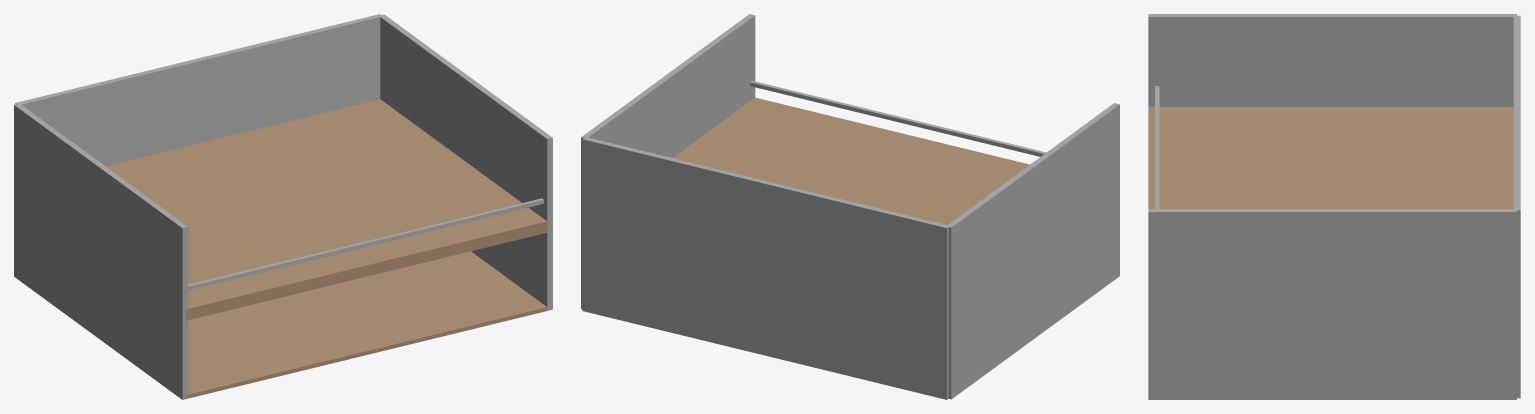
Rendered from warehouse_mezzanine.glb.
3 renders of one model, left to right at view 1: azimuth 30°, elevation 25°; view 2: azimuth 150°, elevation 25°; view 3: azimuth 270°, elevation 25°, orthographic. The views are drawn at different scales.
Visible parts, largest first — view 1: deck, left, back, floor, right, rail; view 2: back, left, deck, right, rail; view 3: right, deck, left, back, rail.
Part boxes in pixels (box(x1,y1,x2,y2)): deck: box(106, 99, 549, 320); left: box(14, 104, 188, 399); back: box(15, 14, 382, 166); floor: box(185, 251, 549, 398); right: box(380, 14, 552, 310); rail: box(188, 198, 543, 290); back: box(582, 137, 949, 399); left: box(946, 103, 1119, 399); deck: box(673, 97, 1029, 224); right: box(581, 14, 755, 309); rail: box(750, 80, 1046, 156); right: box(1148, 209, 1516, 399); deck: box(1148, 107, 1513, 208); left: box(1148, 14, 1516, 106); back: box(1513, 15, 1520, 398); rail: box(1155, 86, 1159, 208).
Bounding box in the file's own units: 10.16 × 4.5 × 8.08.
